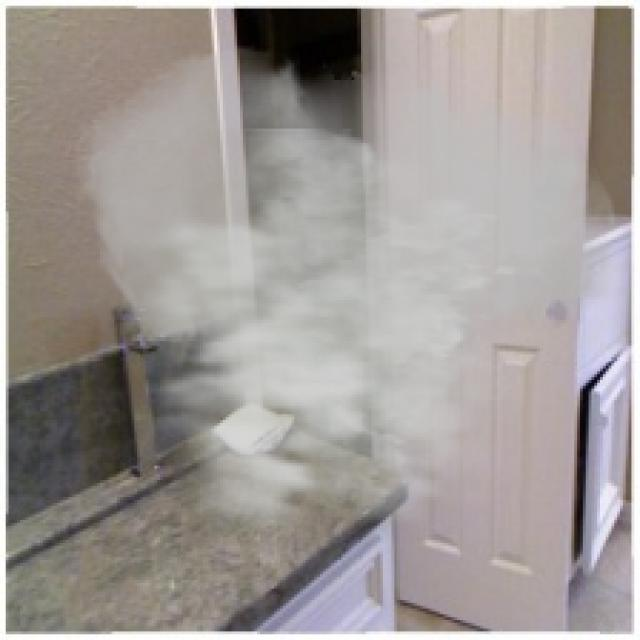Smoke: (68, 43, 623, 560)
